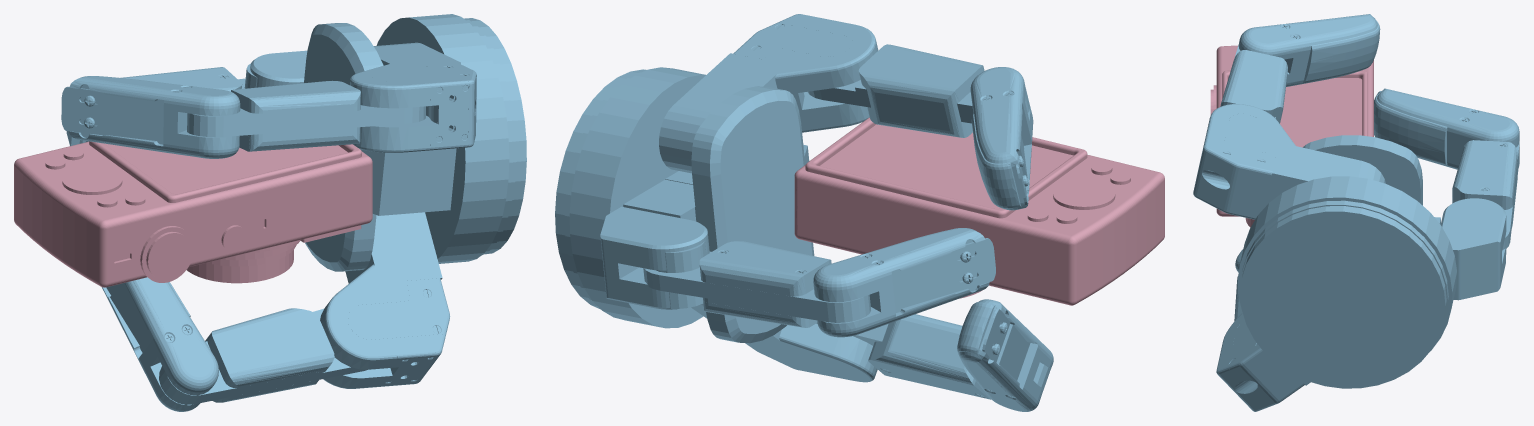
3 renders of one model, left to right at view 1: azimuth 30°, elevation 25°; view 2: azimuth 150°, elevation 25°; view 3: azimuth 270°, elevation 25°, orthographic. The views are drawn at different scales.
Parts seen in each view (by area): view 1: world; view 2: world; view 3: world.
Boxes of the visible parts, box(x1,y1,x2,y2) form: world: box(14, 14, 526, 411); world: box(555, 14, 1164, 411); world: box(1193, 14, 1519, 411).
Bounding box in the file's own units: 0.1941 × 0.1336 × 0.1342.
